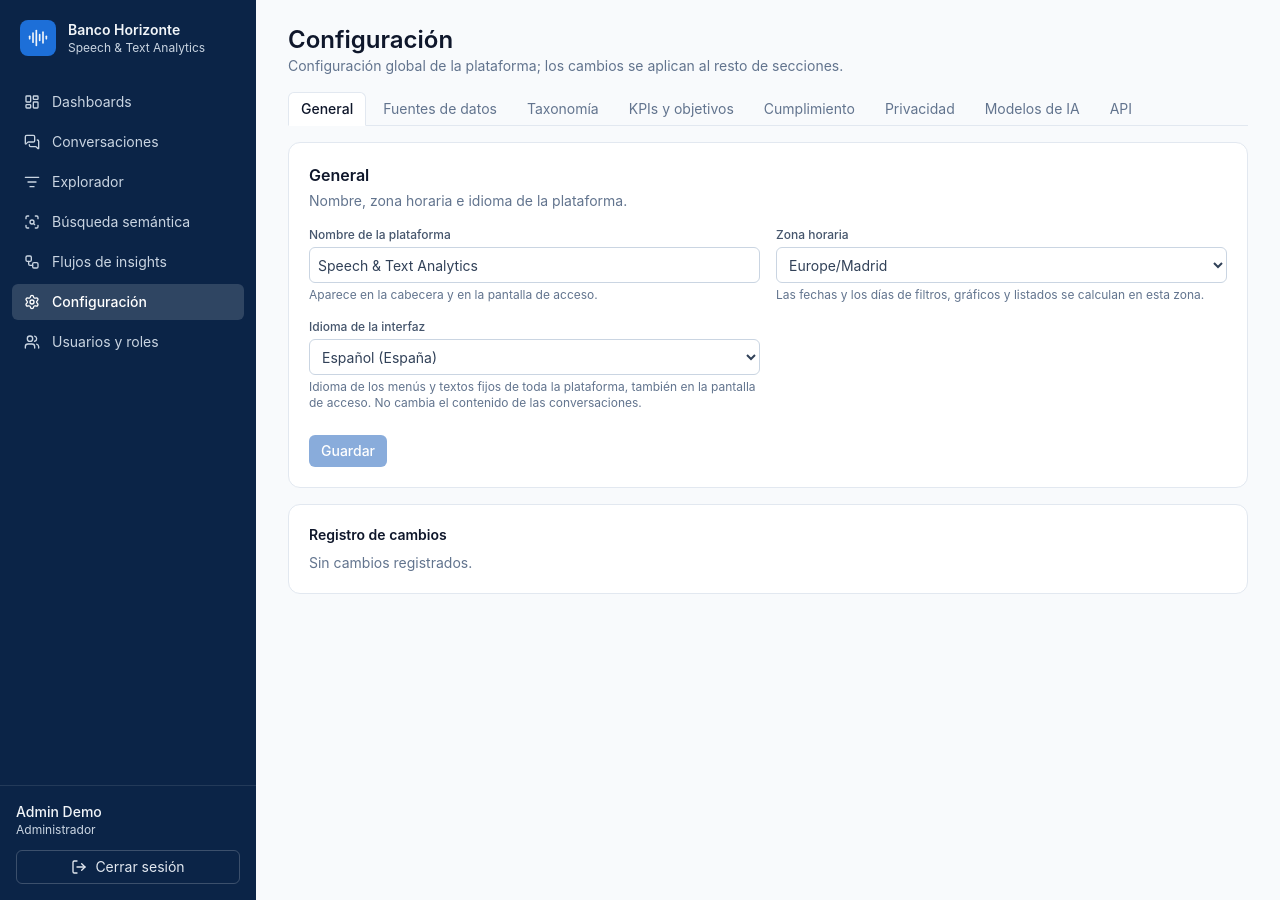
Configuración: Fuentes de datos › lista los conectores y sincroniza uno
The width and height of the screenshot is (1280, 900).
Step 1. Click the tab "Fuentes de datos" → (440, 109), box [370,92,510,126]
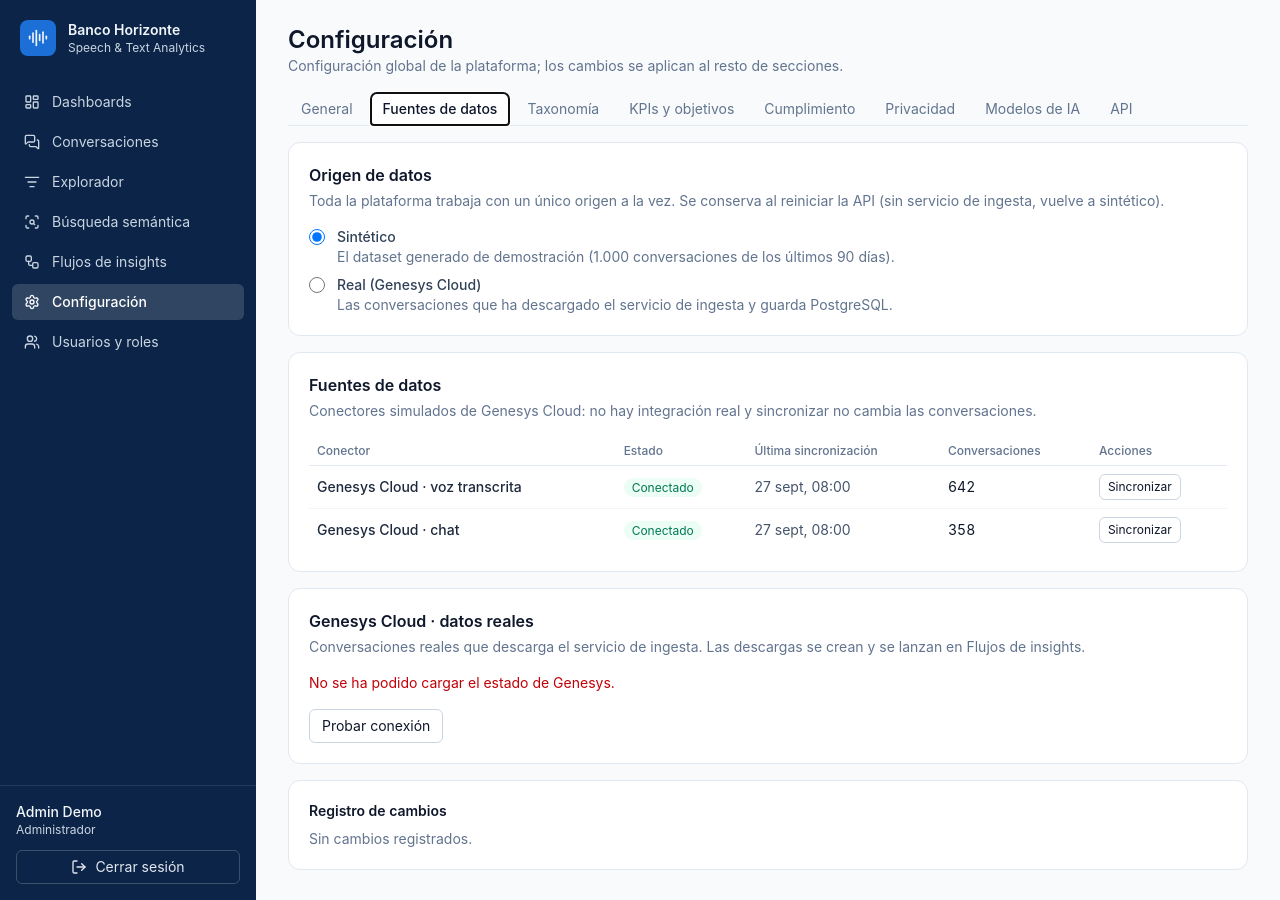
Expected: the number of rows is 3, [309,437,1227,466]; [309,466,1227,508]; [309,508,1227,551]
Expected: the row that starts with "Genesys Cloud · voz transcrita" is shown, [317,478,522,495]
Expected: the row that starts with "Genesys Cloud · voz transcrita" shows "Conectado", [632,480,694,495]
Step 2. Click the button "Sincronizar" in the row of "Genesys Cloud · chat" → (1140, 530), box [1099,517,1181,543]
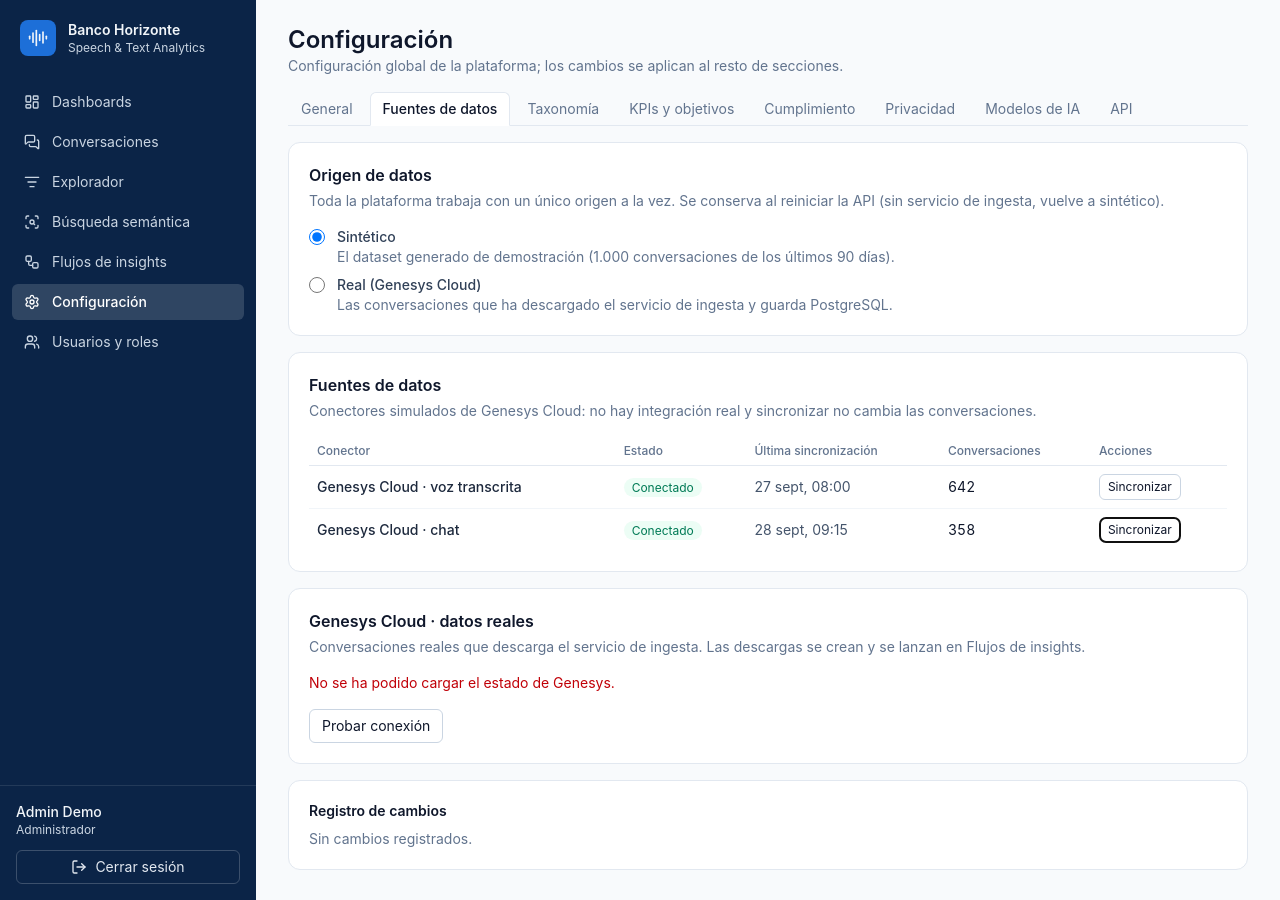
Expected: the text "Conectores simulados" is shown, [309,402,1037,419]
Expected: the row that starts with "Genesys Cloud · chat" shows "28 sept", [754,521,848,538]
